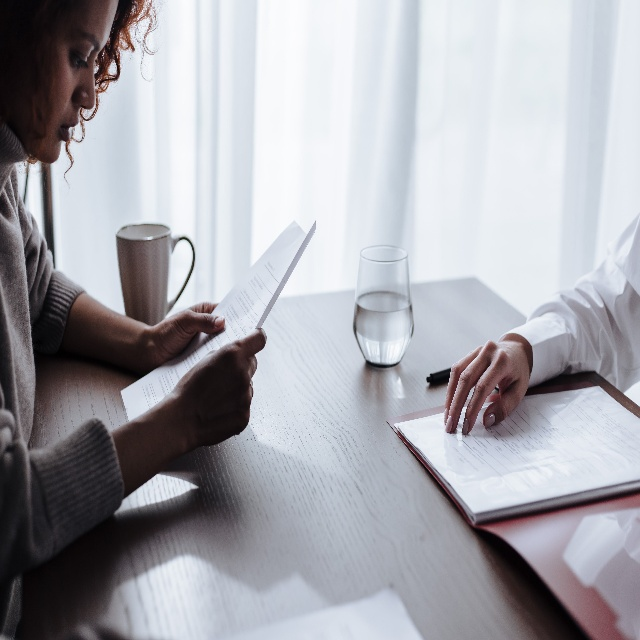Sin_guantes: (177, 326, 267, 443), (442, 341, 529, 436), (149, 306, 224, 355)
